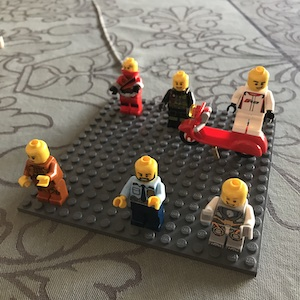Lego: (200, 175, 256, 254), (119, 154, 168, 232), (225, 65, 277, 138), (16, 136, 67, 209), (109, 56, 143, 116), (160, 71, 195, 129)
